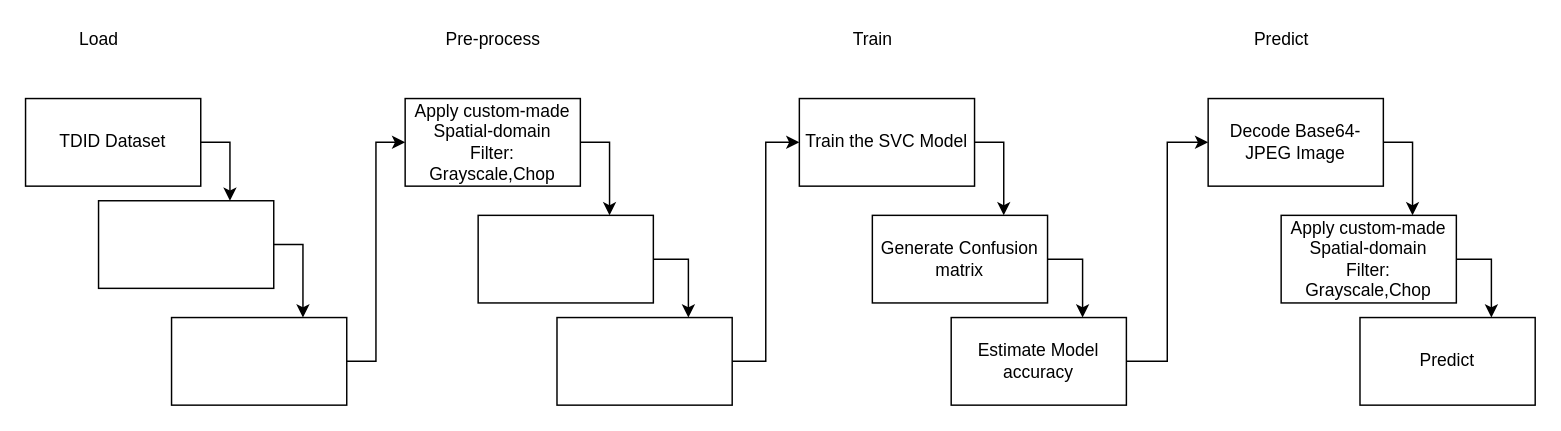
Image size: 1561x431. Some labels were removed from this diagram. The box of each missing label's shape, as (x1, y1, x2, y2) in pixels:
CompatibleDataset: (97, 199, 274, 288)
Numpy-Arrays: (170, 316, 347, 405)
Perform shuffling over the dataset: (477, 214, 653, 303)
Split the Dataset into training-data (80%) and validation-data (20%): (556, 316, 732, 405)
